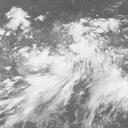cyclone: (38, 44, 90, 91)
